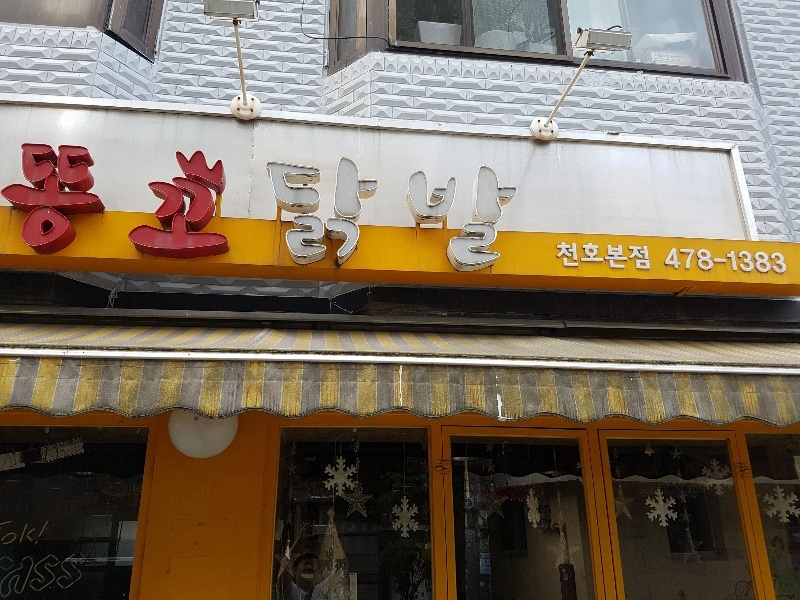text: (273, 150, 288, 276), (289, 150, 304, 276), (305, 150, 320, 276), (321, 150, 336, 276), (337, 150, 352, 276), (353, 150, 368, 276), (369, 150, 384, 276), (385, 150, 400, 276), (401, 150, 416, 276), (417, 150, 432, 276), (433, 150, 448, 276), (449, 150, 464, 276), (465, 150, 480, 276), (481, 150, 496, 276), (497, 150, 512, 276), (1, 142, 16, 266), (17, 142, 32, 266), (33, 142, 48, 266), (49, 142, 64, 266), (65, 142, 80, 266), (81, 142, 96, 266), (97, 142, 112, 266), (113, 142, 128, 266), (129, 142, 144, 266), (145, 142, 160, 266), (161, 142, 176, 266), (177, 142, 192, 266), (193, 142, 208, 266), (209, 142, 224, 266), (513, 150, 522, 276), (265, 150, 272, 276), (225, 142, 232, 266), (561, 242, 576, 272), (577, 242, 592, 272), (593, 242, 608, 272), (609, 242, 624, 272), (625, 242, 640, 272), (673, 247, 688, 276), (689, 247, 704, 276), (705, 247, 720, 276), (721, 247, 736, 276), (737, 247, 752, 276), (753, 247, 768, 276), (769, 247, 784, 276), (641, 242, 653, 272), (663, 247, 672, 276), (554, 242, 560, 272), (785, 247, 790, 276)
